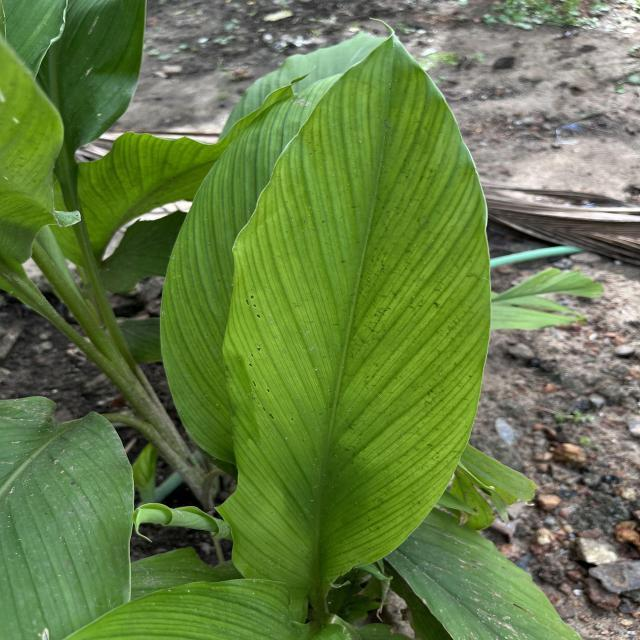Curcuma longa: (206, 12, 501, 610)
